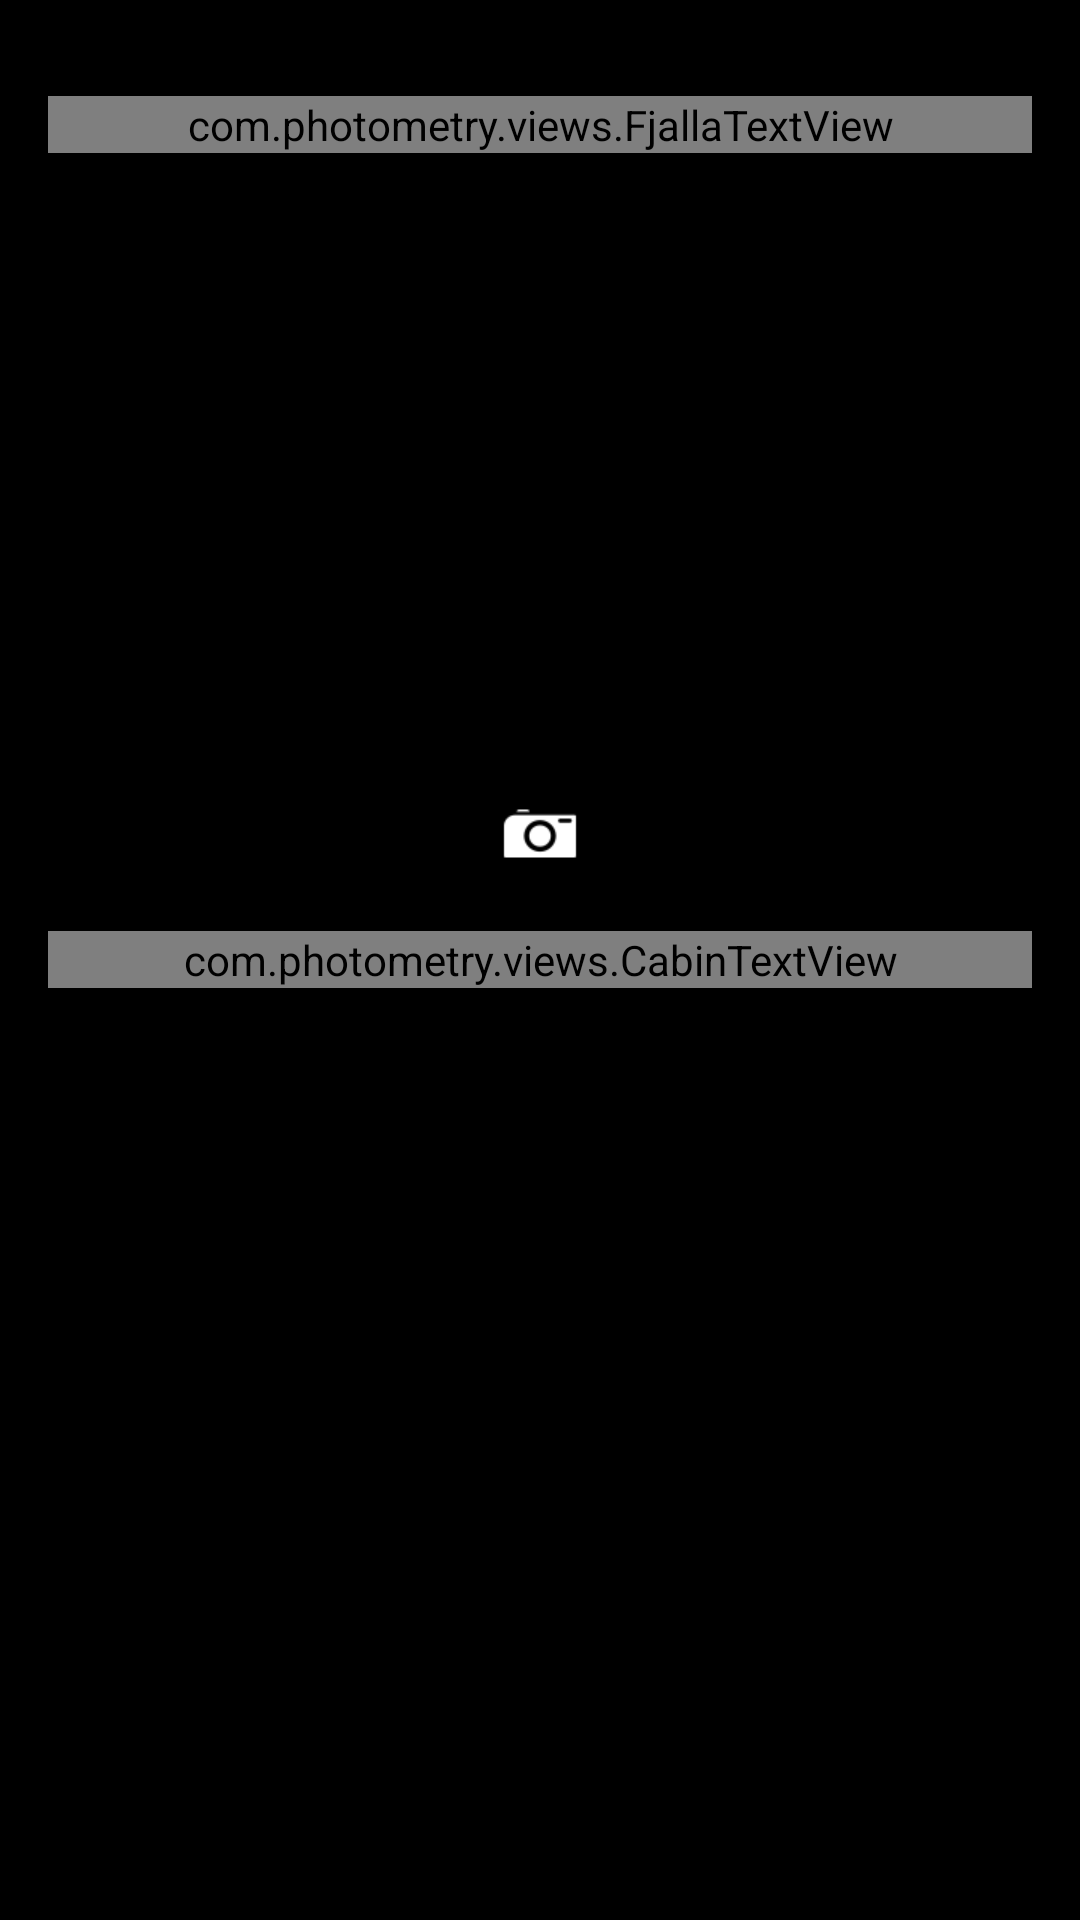

Icons on this 1080px×1920px Android screen, each with the point to tap as [x,y]:
camera: [540,833]
